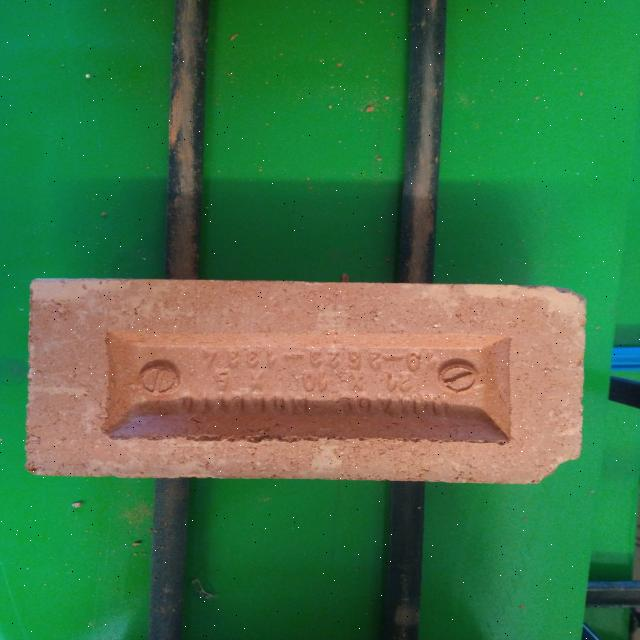bricks_ruin: (28, 280, 586, 485)
